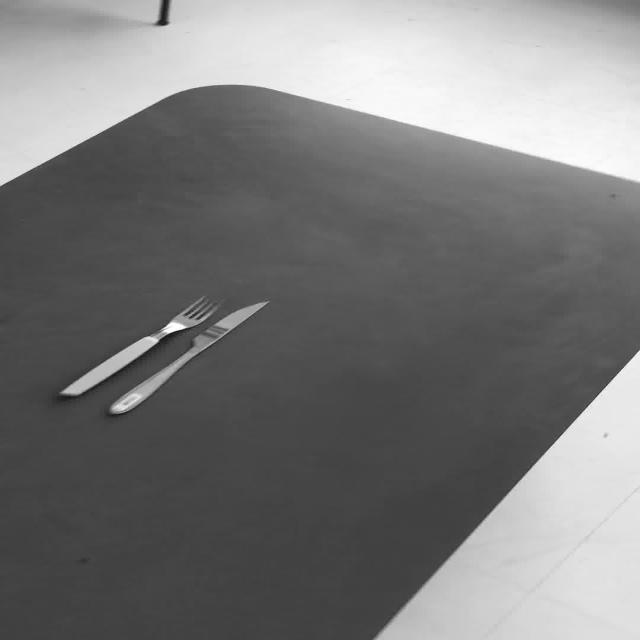fork: (58, 295, 224, 397)
knife fork: (106, 299, 270, 415)
